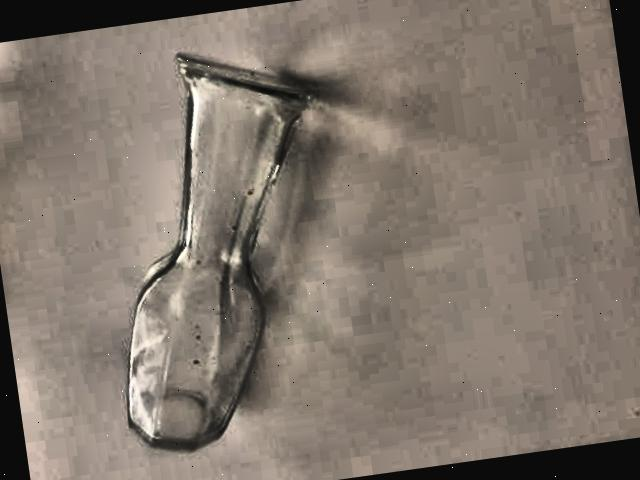Almennt: (38, 19, 380, 472)
